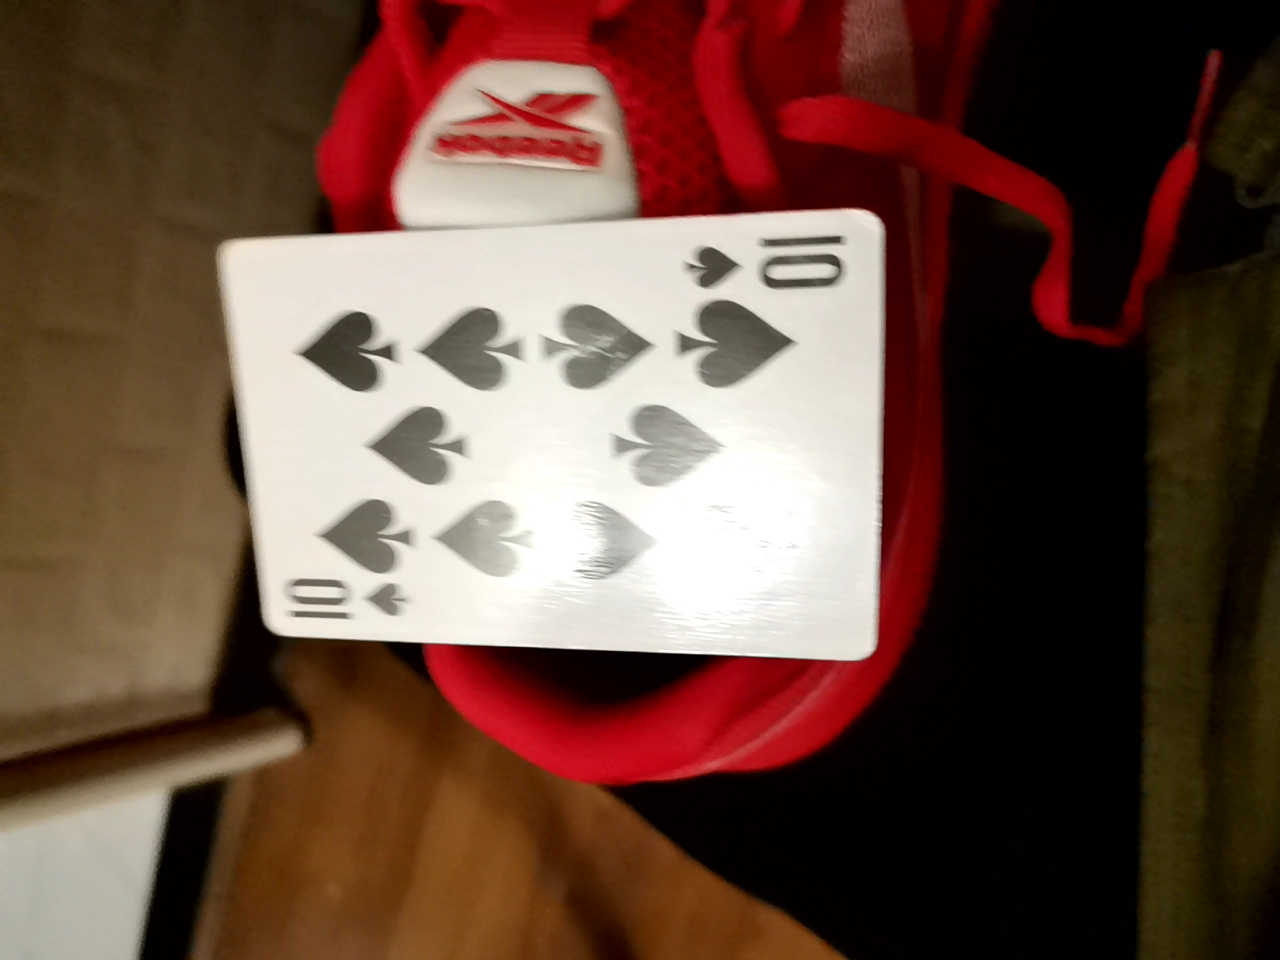ht 10: (204, 179, 894, 639)
